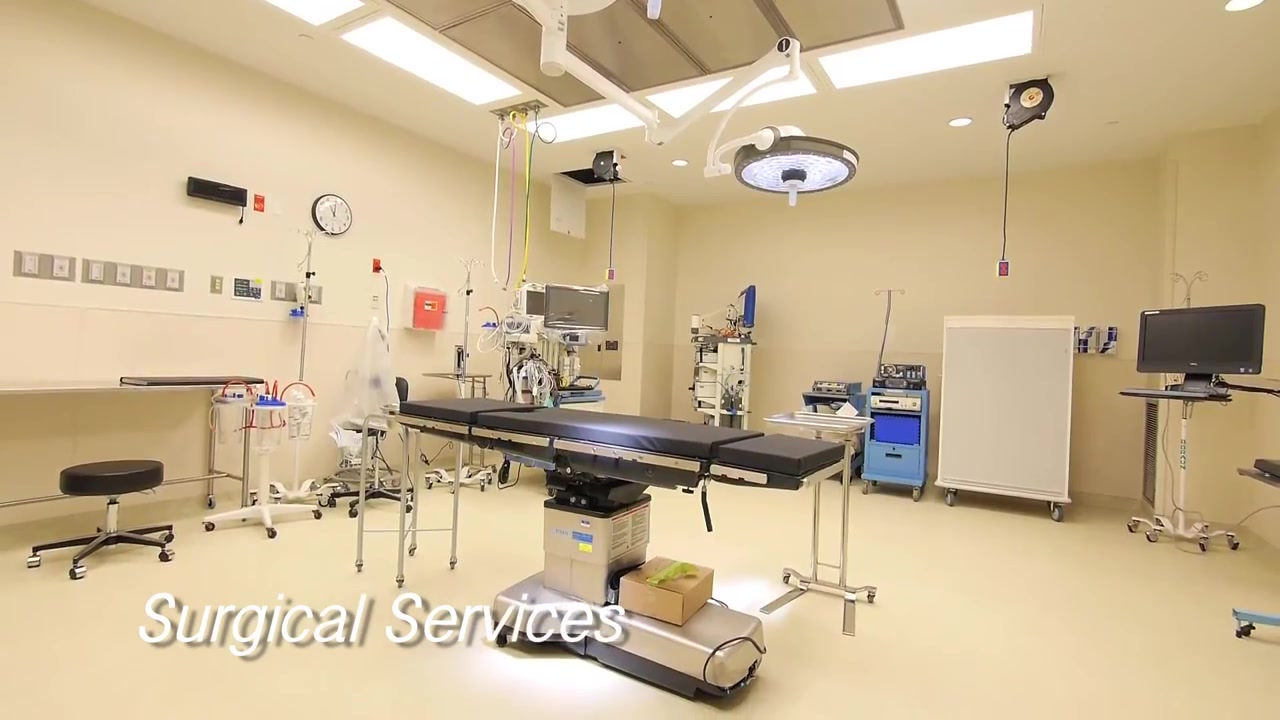bedside_monitor: (544, 284, 611, 332), (523, 291, 544, 318)
breathing_tube: (512, 363, 553, 405)
chair: (27, 460, 176, 579)
computer: (1136, 304, 1265, 379)
electrosurgical_unit: (810, 379, 862, 395)
iv_pole: (290, 227, 326, 384), (455, 255, 487, 399), (873, 286, 905, 388), (1166, 263, 1208, 305)
medical_waste_container: (404, 285, 451, 334)
operating_bed: (395, 380, 851, 698)
surgical_light: (729, 130, 861, 206)
utility_cart: (763, 409, 879, 637), (352, 399, 469, 587)
